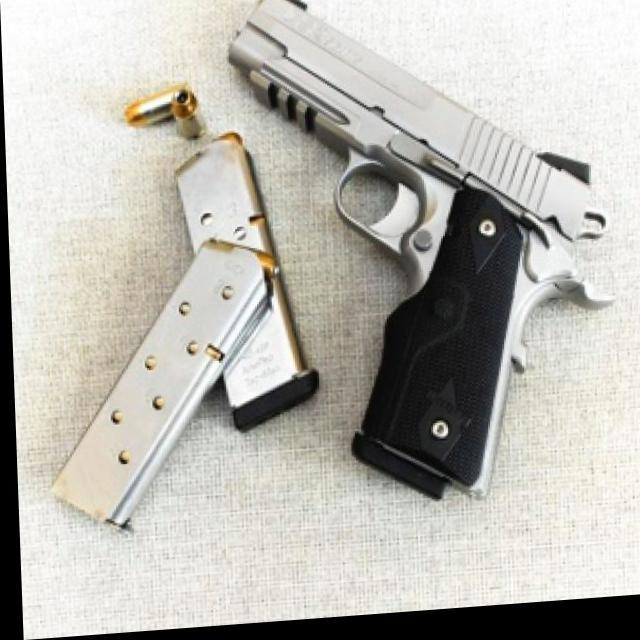weapon: (225, 0, 618, 519), (32, 76, 318, 538)
